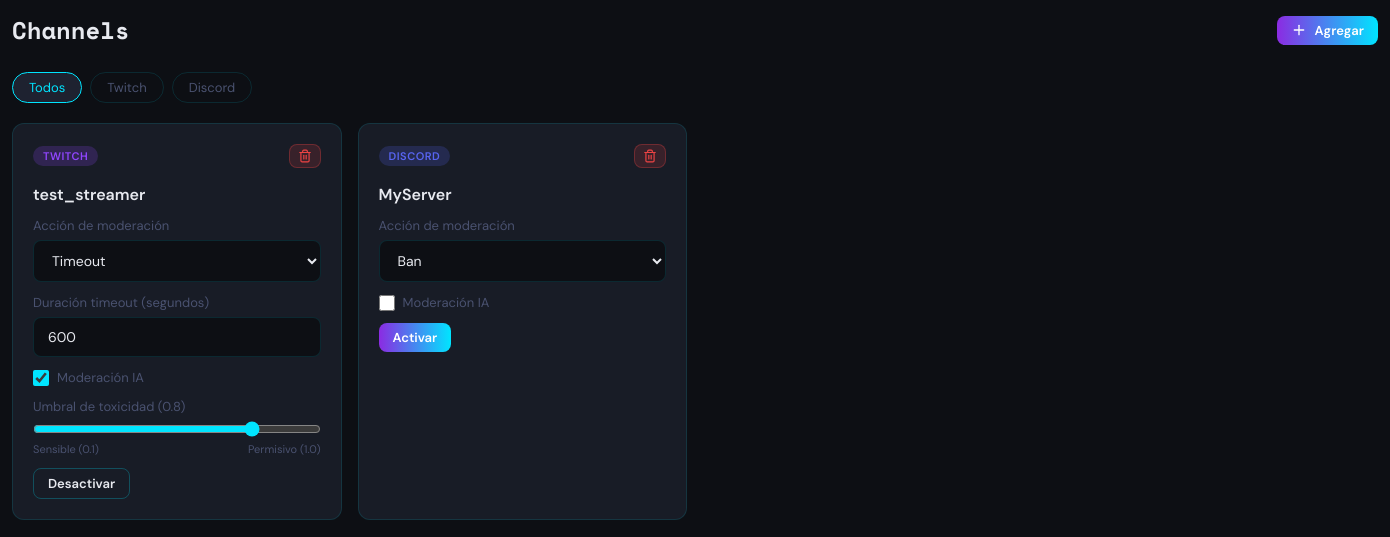
Channels › filter tabs work
Expected: the text "test_streamer" is shown, [33,184,145,205]
Note: Click Discord filter
Click the button "Discord" at [212, 88], box [172,72,252,103]
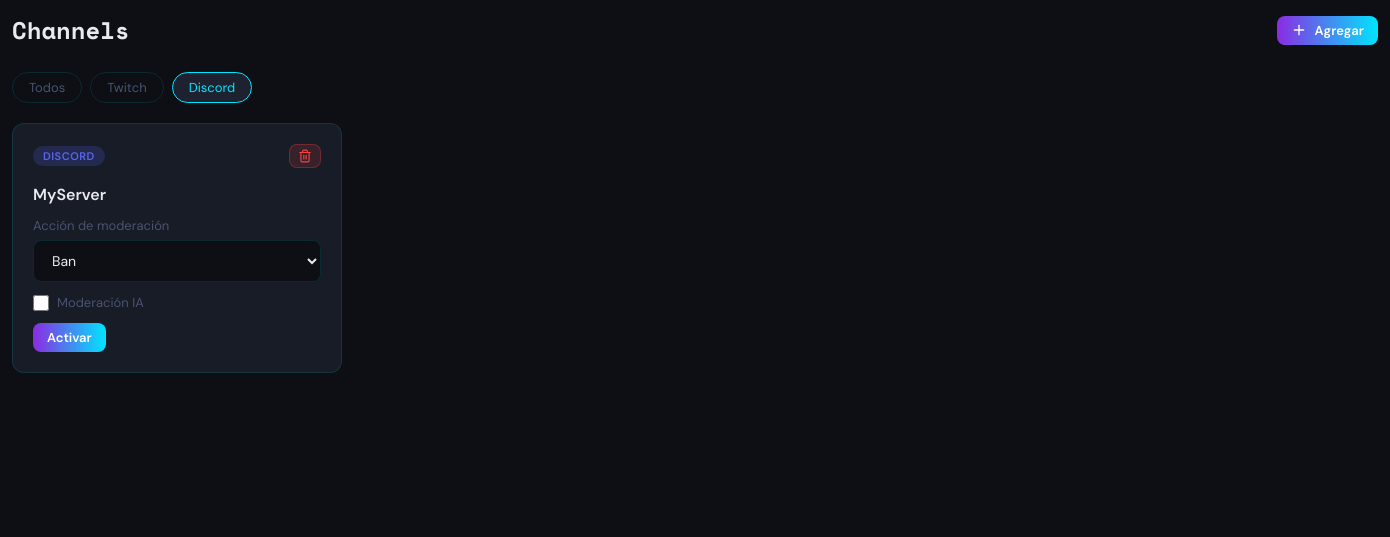
Expected: the text "MyServer" is shown, [33,184,106,205]
Now the text "test_streamer" is gone
Note: Click Twitch filter
Click the button "Twitch" at [127, 88], box [90,72,164,103]
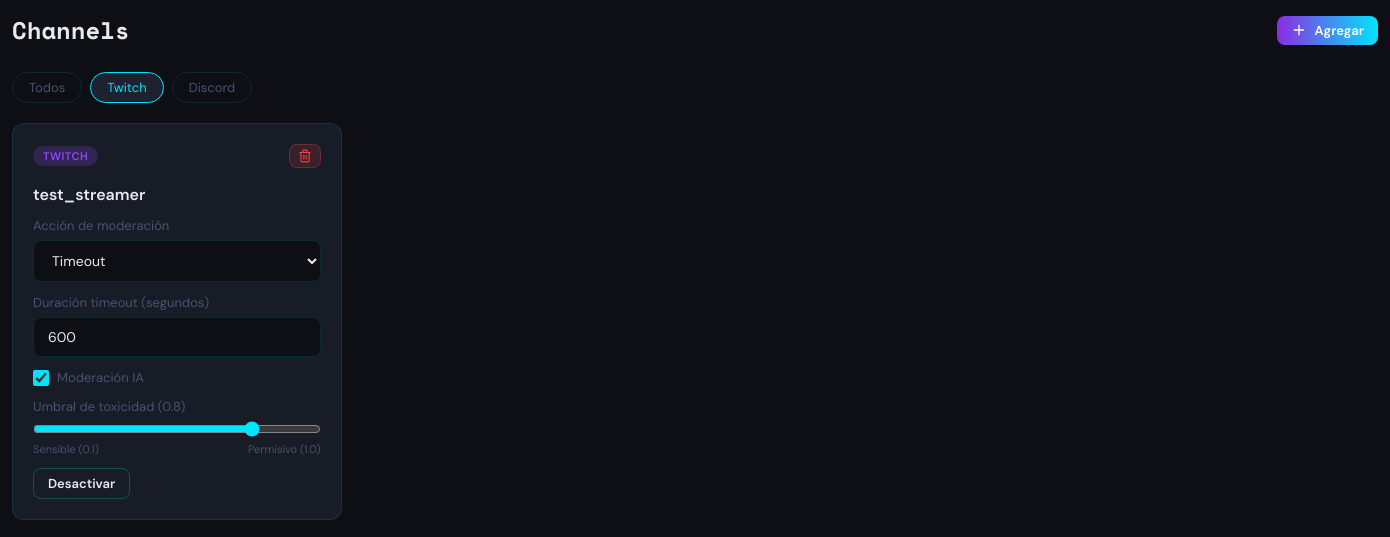
Now the text "test_streamer" is shown, box [33,184,145,205]
Now the text "MyServer" is gone
Note: Click All
Click the button "Todos" at [47, 88], box [12,72,82,103]
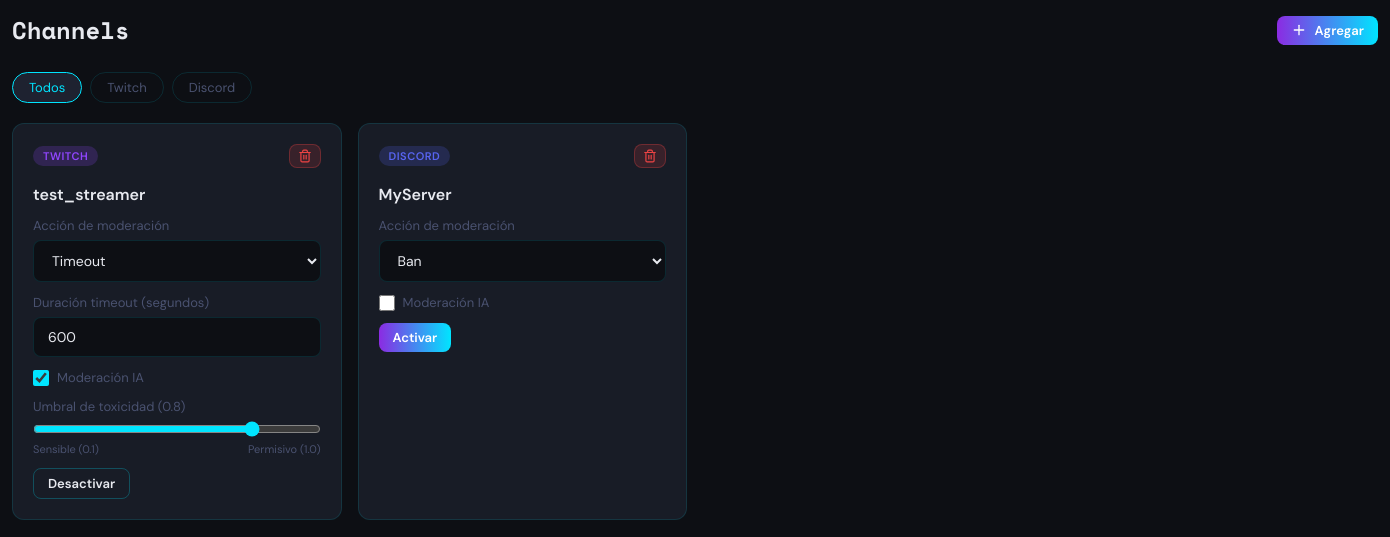
Now the text "test_streamer" is shown, box [33,184,145,205]
Now the text "MyServer" is shown, box [378,184,452,205]
